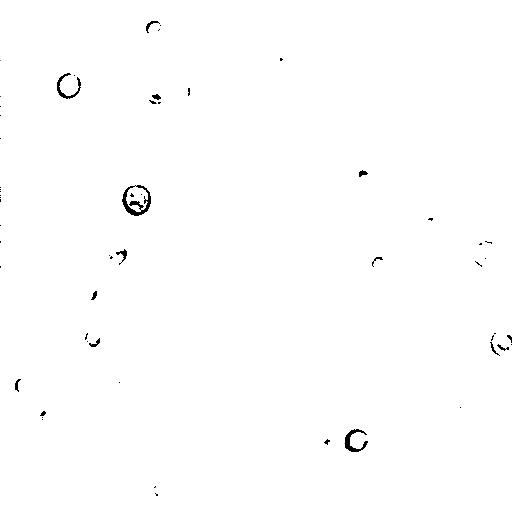micro-algae: (147, 24, 221, 99), (131, 262, 174, 301), (121, 183, 153, 217), (177, 75, 204, 111), (109, 365, 137, 397), (30, 400, 57, 430), (362, 248, 390, 275), (272, 39, 297, 69), (349, 163, 377, 189), (56, 71, 81, 99), (472, 240, 497, 267), (345, 427, 369, 453), (105, 243, 129, 267), (417, 213, 441, 237), (14, 147, 38, 169), (149, 479, 173, 501), (493, 327, 511, 355), (318, 431, 340, 453), (78, 282, 101, 303), (143, 19, 163, 37), (83, 329, 103, 347), (13, 377, 29, 396), (225, 0, 250, 11)
